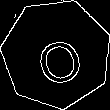O_N: (27, 22, 86, 85)
